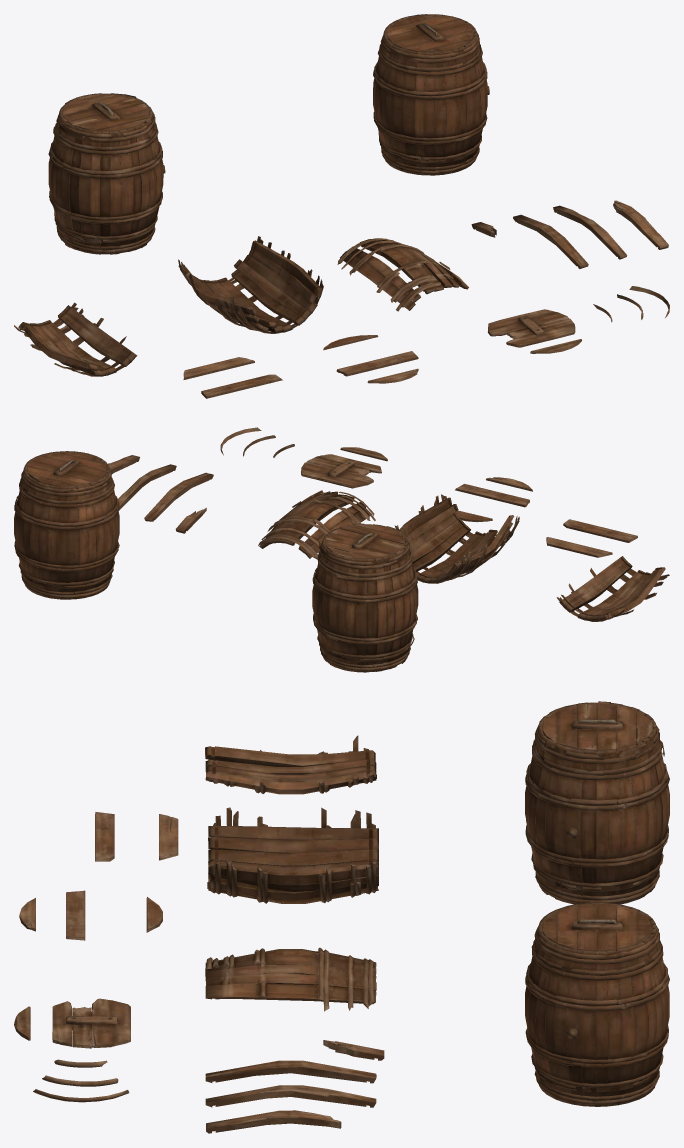
Rendered from wooden_barrels_01.glb.
3 views of the same model, one above another, from view 1: azimuth 30°, elevation 25°; view 2: azimuth 150°, elevation 25°; view 3: azimuth 270°, elevation 25° (orthographic). The views are drawn at different scales.
Parts seen in each view (by area): view 1: wooden_barrels_01_barrel02, wooden_barrels_01_barrel01, wooden_barrels_01_piece01, wooden_barrels_01_piece03, wooden_barrels_01_piece02, wooden_barrels_01_piece08, wooden_barrels_01_piece04, wooden_barrels_01_piece05, wooden_barrels_01_piece06, wooden_barrels_01_piece11, wooden_barrels_01_piece14, wooden_barrels_01_piece13; view 2: wooden_barrels_01_barrel02, wooden_barrels_01_barrel01, wooden_barrels_01_piece01, wooden_barrels_01_piece03, wooden_barrels_01_piece02, wooden_barrels_01_piece08, wooden_barrels_01_piece04, wooden_barrels_01_piece14, wooden_barrels_01_piece11, wooden_barrels_01_piece05, wooden_barrels_01_piece13; view 3: wooden_barrels_01_barrel01, wooden_barrels_01_barrel02, wooden_barrels_01_piece01, wooden_barrels_01_piece03, wooden_barrels_01_piece02, wooden_barrels_01_piece08, wooden_barrels_01_piece04, wooden_barrels_01_piece05, wooden_barrels_01_piece06, wooden_barrels_01_piece11, wooden_barrels_01_piece14, wooden_barrels_01_piece13 (+1 smaller).
Part boxes in pixels (x1,y1,x2,y2): wooden_barrels_01_barrel02: [48, 93, 165, 254]; wooden_barrels_01_barrel01: [373, 14, 489, 175]; wooden_barrels_01_piece01: [178, 236, 323, 333]; wooden_barrels_01_piece03: [337, 238, 468, 311]; wooden_barrels_01_piece02: [14, 302, 137, 376]; wooden_barrels_01_piece08: [488, 309, 575, 347]; wooden_barrels_01_piece04: [513, 214, 588, 268]; wooden_barrels_01_piece05: [553, 205, 627, 259]; wooden_barrels_01_piece06: [613, 200, 668, 249]; wooden_barrels_01_piece11: [336, 351, 418, 376]; wooden_barrels_01_piece14: [201, 374, 282, 398]; wooden_barrels_01_piece13: [183, 357, 254, 379]; wooden_barrels_01_barrel02: [312, 523, 418, 672]; wooden_barrels_01_barrel01: [14, 451, 119, 599]; wooden_barrels_01_piece01: [394, 494, 519, 583]; wooden_barrels_01_piece03: [258, 490, 375, 559]; wooden_barrels_01_piece02: [556, 556, 669, 621]; wooden_barrels_01_piece08: [301, 454, 381, 488]; wooden_barrels_01_piece04: [144, 472, 213, 521]; wooden_barrels_01_piece14: [563, 519, 637, 542]; wooden_barrels_01_piece11: [455, 484, 529, 507]; wooden_barrels_01_piece05: [118, 464, 176, 510]; wooden_barrels_01_piece13: [546, 537, 612, 557]; wooden_barrels_01_barrel01: [525, 902, 669, 1106]; wooden_barrels_01_barrel02: [525, 701, 669, 904]; wooden_barrels_01_piece01: [207, 807, 378, 903]; wooden_barrels_01_piece03: [205, 947, 376, 1011]; wooden_barrels_01_piece02: [205, 735, 376, 794]; wooden_barrels_01_piece08: [52, 998, 130, 1048]; wooden_barrels_01_piece04: [205, 1060, 376, 1083]; wooden_barrels_01_piece05: [205, 1085, 376, 1107]; wooden_barrels_01_piece06: [206, 1110, 341, 1133]; wooden_barrels_01_piece11: [66, 890, 85, 940]; wooden_barrels_01_piece14: [95, 812, 114, 861]; wooden_barrels_01_piece13: [159, 814, 178, 860].
Bounding box in the file's own units: 4.44 × 0.953 × 3.34.
3 materials, 3 textured.
